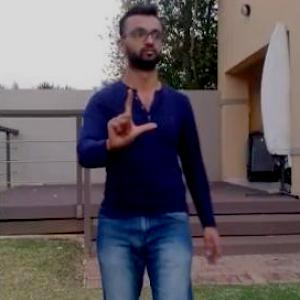land_hand: (102, 82, 163, 156)
